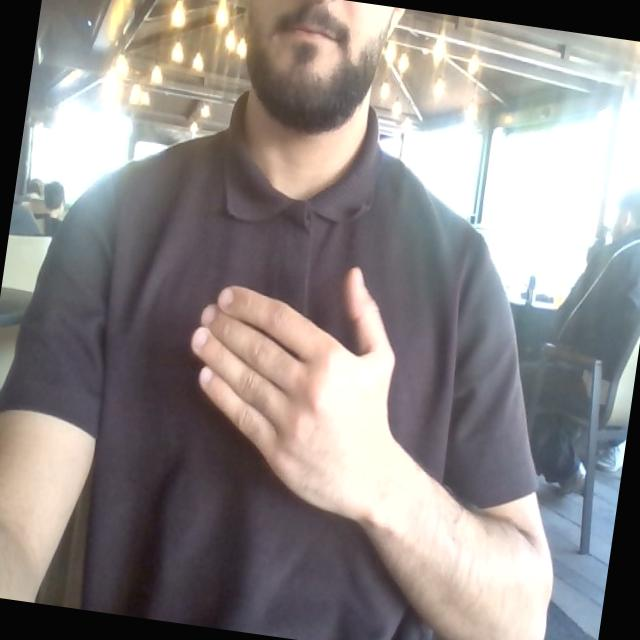Hand: (192, 268, 395, 518)
